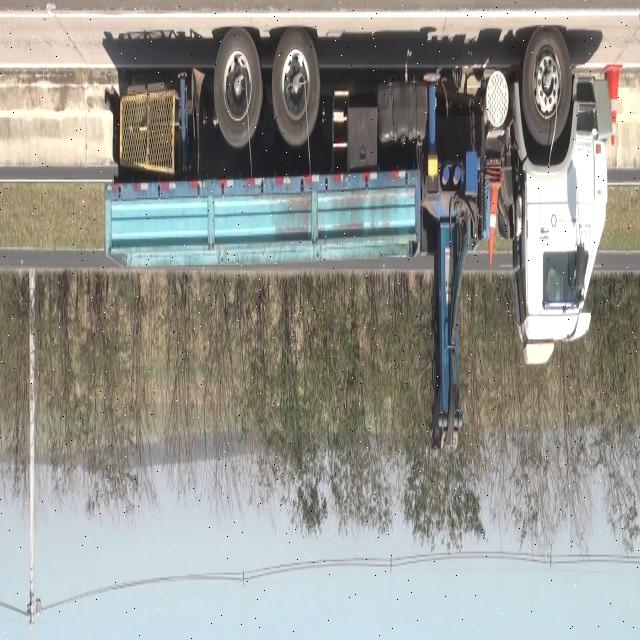-axle: (522, 24, 574, 145), (272, 23, 320, 146), (214, 26, 262, 148)
